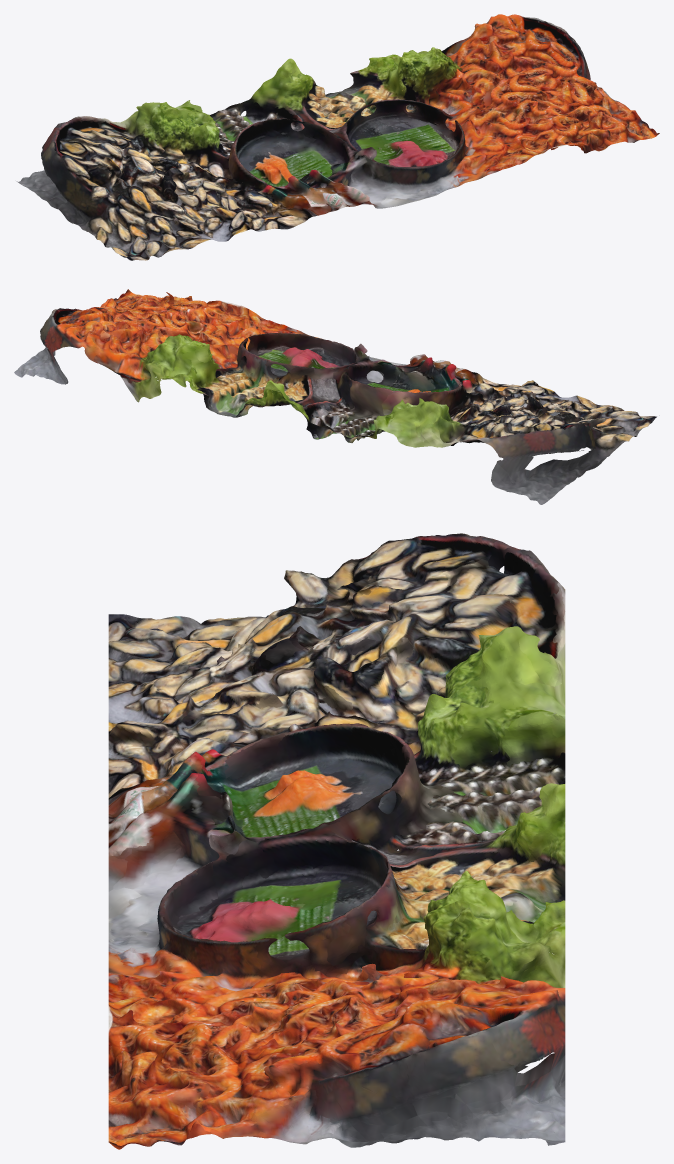
Rendered from seafood.glb.
3 views of the same model, one above another, from view 1: azimuth 30°, elevation 25°; view 2: azimuth 150°, elevation 25°; view 3: azimuth 270°, elevation 25° (orthographic). The views are drawn at different scales.
Parts seen in each view (by area): view 1: mesh_main_0; view 2: mesh_main_0; view 3: mesh_main_0.
Part boxes in pixels (x1,y1,x2,y2): mesh_main_0: (16,14,659,260); mesh_main_0: (14,289,656,504); mesh_main_0: (108,533,565,1149).
Size of the model in its own units: 1.45 by 0.1742 by 0.5389.
Materials: 1 (1 with a texture image).
